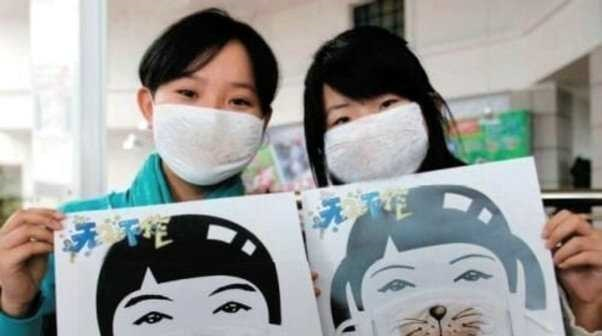face_mask: (150, 53, 264, 186), (324, 84, 428, 190)
